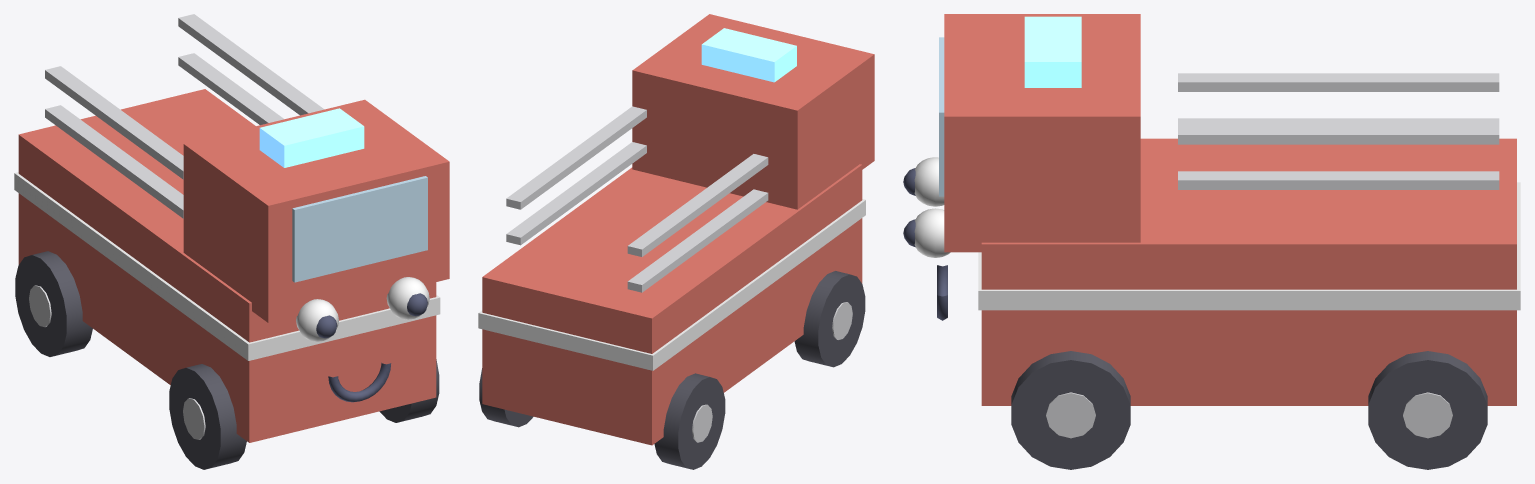
File: mobil_damkar.glb
3 renders of one model, left to right at view 1: azimuth 30°, elevation 25°; view 2: azimuth 150°, elevation 25°; view 3: azimuth 270°, elevation 25°, orthographic. The views are drawn at different scales.
Visible parts, largest first — view 1: mobil_damkar; view 2: mobil_damkar; view 3: mobil_damkar.
Part boxes in pixels (box(x1,y1,x2,y2)): mobil_damkar: box(14, 14, 449, 469); mobil_damkar: box(478, 14, 874, 469); mobil_damkar: box(903, 14, 1520, 469).
Size of the model in its own units: 0.83 by 1.14 by 1.73.
